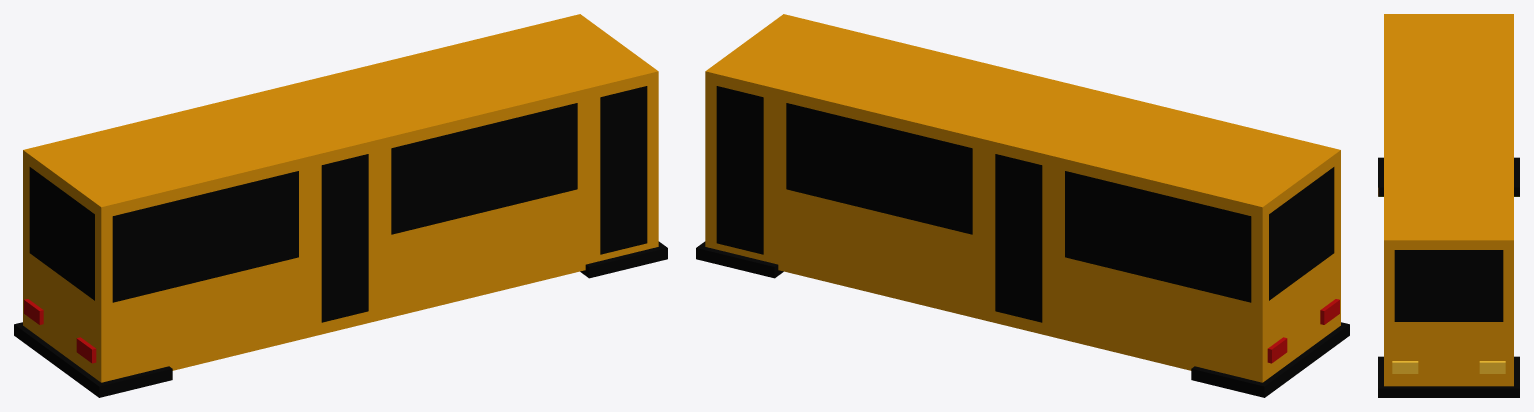
Rendered from CityBus.fbx.
3 views of the same model, side by side, from view 1: azimuth 30°, elevation 25°; view 2: azimuth 150°, elevation 25°; view 3: azimuth 270°, elevation 25° (orthographic). The views are drawn at different scales.
Parts seen in each view (by area): view 1: CityBus; view 2: CityBus; view 3: CityBus.
Part boxes in pixels (<box>): CityBus: <box>14,14,667,397</box>; CityBus: <box>696,14,1349,397</box>; CityBus: <box>1378,14,1519,397</box>.
Bounding box in the file's own units: 1.06 × 0.3313 × 0.2737.
